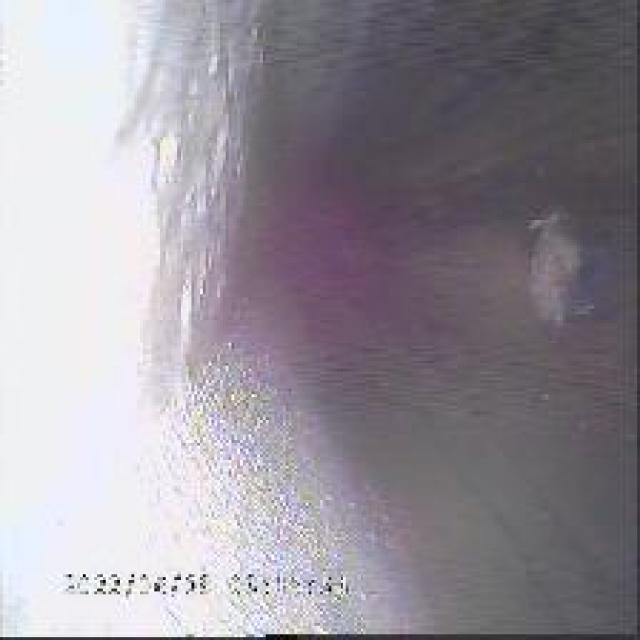ferrule: (520, 208, 586, 328)
